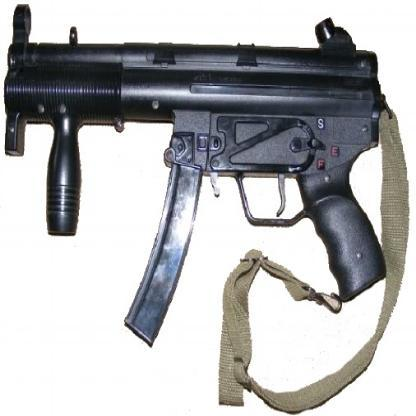gun: (5, 5, 393, 353)
